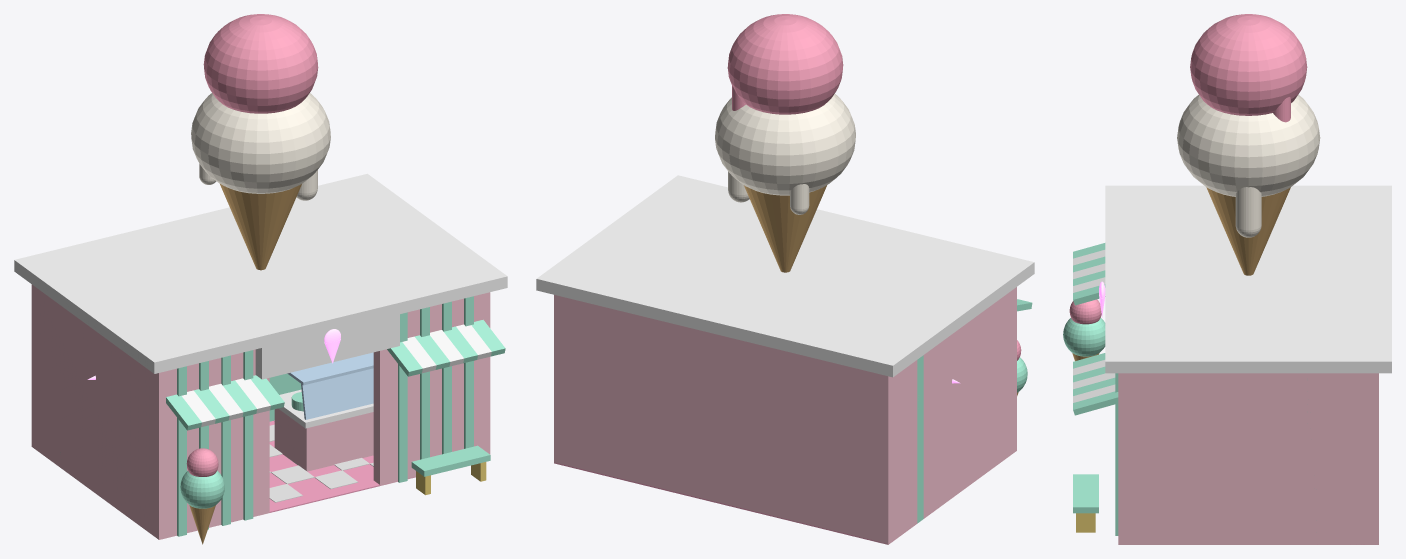
File: gen_1772937087888.glb
The picture shows the model from 3 angles, left to right: view 1: azimuth 30°, elevation 25°; view 2: azimuth 150°, elevation 25°; view 3: azimuth 270°, elevation 25°; orthographic projection. The views are drawn at different scales.
Parts seen in each view (by area): view 1: Roof, Wall_Left, GiantVanilla, GiantStrawb, Wall_Front_Right, Wall_Front_Left, SignBoard, CounterBase, GiantCone, FloorBase, CounterGlass, Stripe.003 (+14 smaller); view 2: Wall_Back, Roof, Wall_Left, GiantVanilla, GiantStrawb, GiantCone, Wall_Right, ArchWall_Left, FloorBase; view 3: Roof, Wall_Right, GiantVanilla, GiantStrawb, GiantCone, StatueScoop1, Drip1, BenchSeat, StatueScoop2, Awning_2.0_6, Stripe.007, BenchLeg2.
Part boxes in pixels (x1,y1,x2,y2): Roof: [14, 173, 507, 373]; Wall_Left: [31, 284, 170, 539]; GiantVanilla: [191, 93, 330, 193]; GiantStrawb: [203, 14, 318, 113]; Wall_Front_Right: [373, 292, 490, 485]; Wall_Front_Left: [159, 349, 269, 539]; SignBoard: [255, 311, 399, 379]; CounterBase: [274, 408, 373, 471]; GiantCone: [220, 184, 301, 270]; FloorBase: [233, 421, 414, 521]; CounterGlass: [301, 368, 373, 419]; Stripe.003: [243, 350, 253, 520]; Wall_Back: [554, 297, 894, 541]; Roof: [536, 175, 1034, 377]; Wall_Left: [877, 287, 1016, 544]; GiantVanilla: [715, 94, 855, 195]; GiantStrawb: [727, 14, 843, 114]; GiantCone: [744, 185, 826, 272]; Wall_Right: [554, 295, 564, 464]; ArchWall_Left: [917, 355, 923, 523]; FloorBase: [554, 462, 992, 544]; Roof: [1105, 185, 1391, 373]; Wall_Right: [1118, 373, 1378, 544]; GiantVanilla: [1177, 95, 1320, 196]; GiantStrawb: [1190, 14, 1307, 115]; GiantCone: [1206, 187, 1290, 275]; StatueScoop1: [1063, 318, 1105, 356]; Drip1: [1235, 187, 1261, 230]; BenchSeat: [1073, 474, 1098, 513]; StatueScoop2: [1069, 299, 1101, 324]; Awning_2.0_6: [1073, 391, 1118, 415]; Stripe.007: [1115, 373, 1118, 535]; BenchLeg2: [1076, 513, 1095, 532].
Size of the model in its own units: 6.4 by 7.5 by 5.05.
